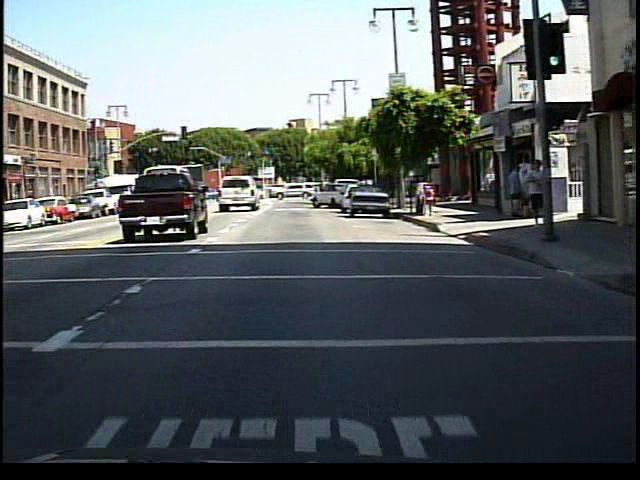person: (520, 156, 545, 229), (504, 163, 520, 222)
